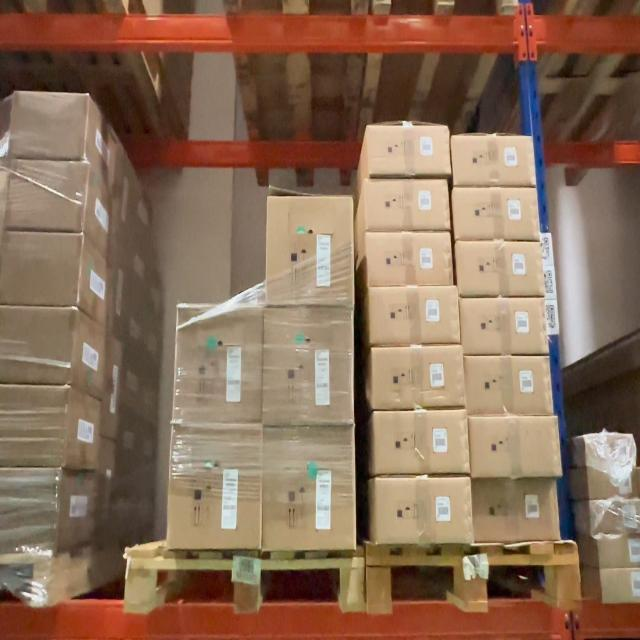box: (172, 428, 262, 549), (266, 430, 356, 548), (266, 312, 354, 424), (178, 310, 263, 424), (269, 196, 353, 302), (375, 479, 472, 542), (375, 412, 470, 474), (4, 233, 80, 304), (368, 286, 460, 344), (10, 162, 86, 232), (373, 349, 463, 408), (2, 308, 72, 382), (0, 386, 64, 465), (475, 480, 559, 540), (466, 356, 552, 414), (473, 418, 559, 476), (15, 95, 86, 160), (0, 469, 56, 550), (451, 134, 534, 186), (463, 299, 544, 352), (369, 233, 451, 285), (459, 244, 542, 295), (455, 190, 539, 240), (369, 127, 449, 176), (369, 181, 448, 230)
